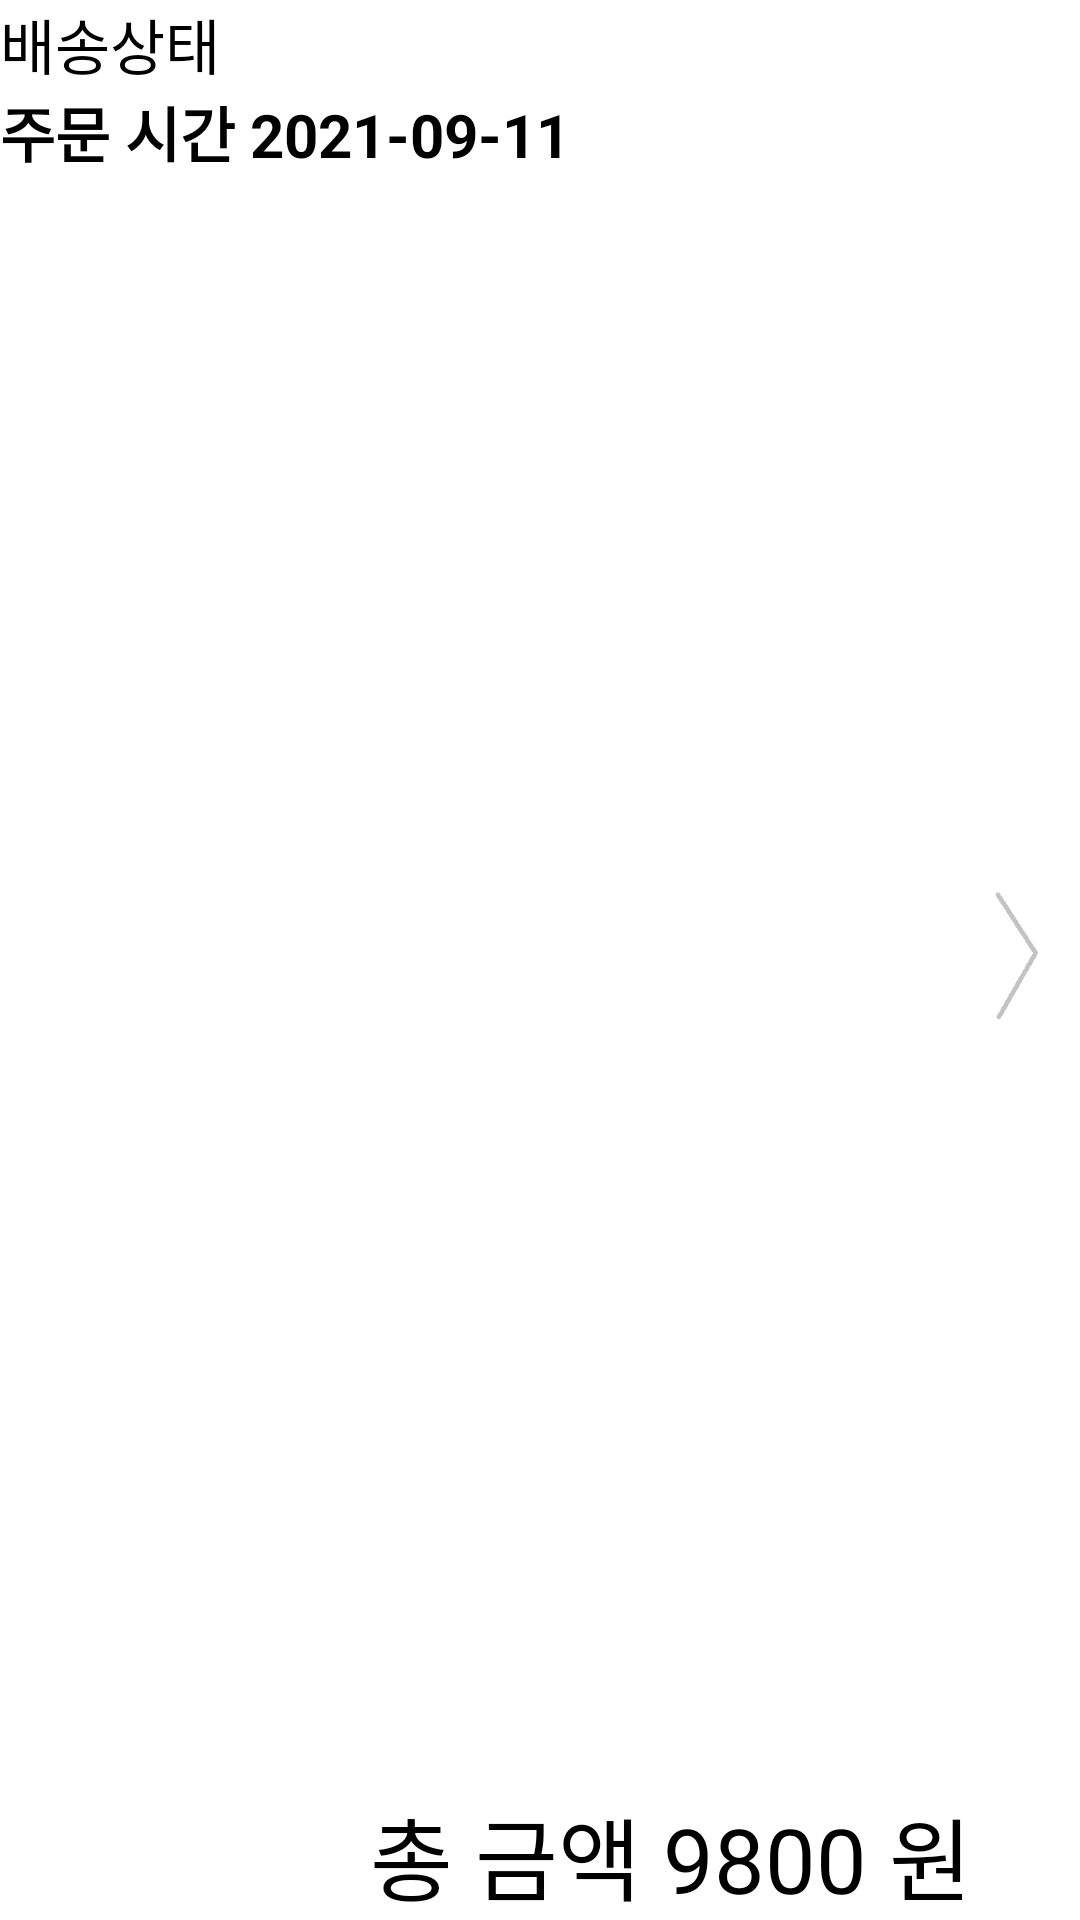

Screen size 1080x1920. Icon name, then its box in pixels as bbox(x1, y1, x2, y2):
arrow: bbox(996, 892, 1038, 1019)
